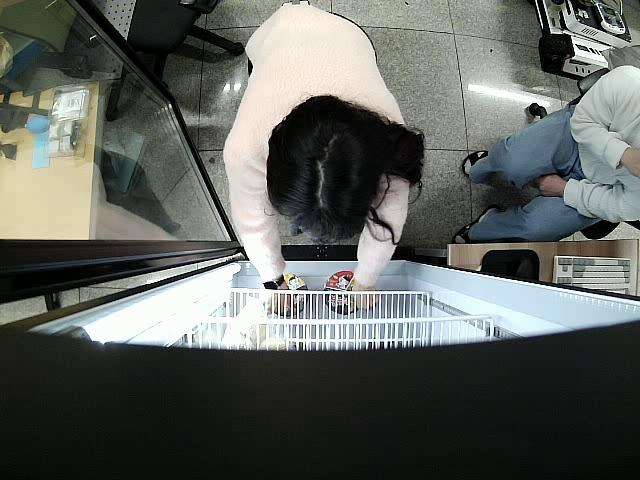00_hand: (261, 286, 295, 315), (349, 283, 381, 309), (538, 175, 565, 196)
07_buldak_L: (269, 270, 307, 315), (320, 270, 357, 315)
